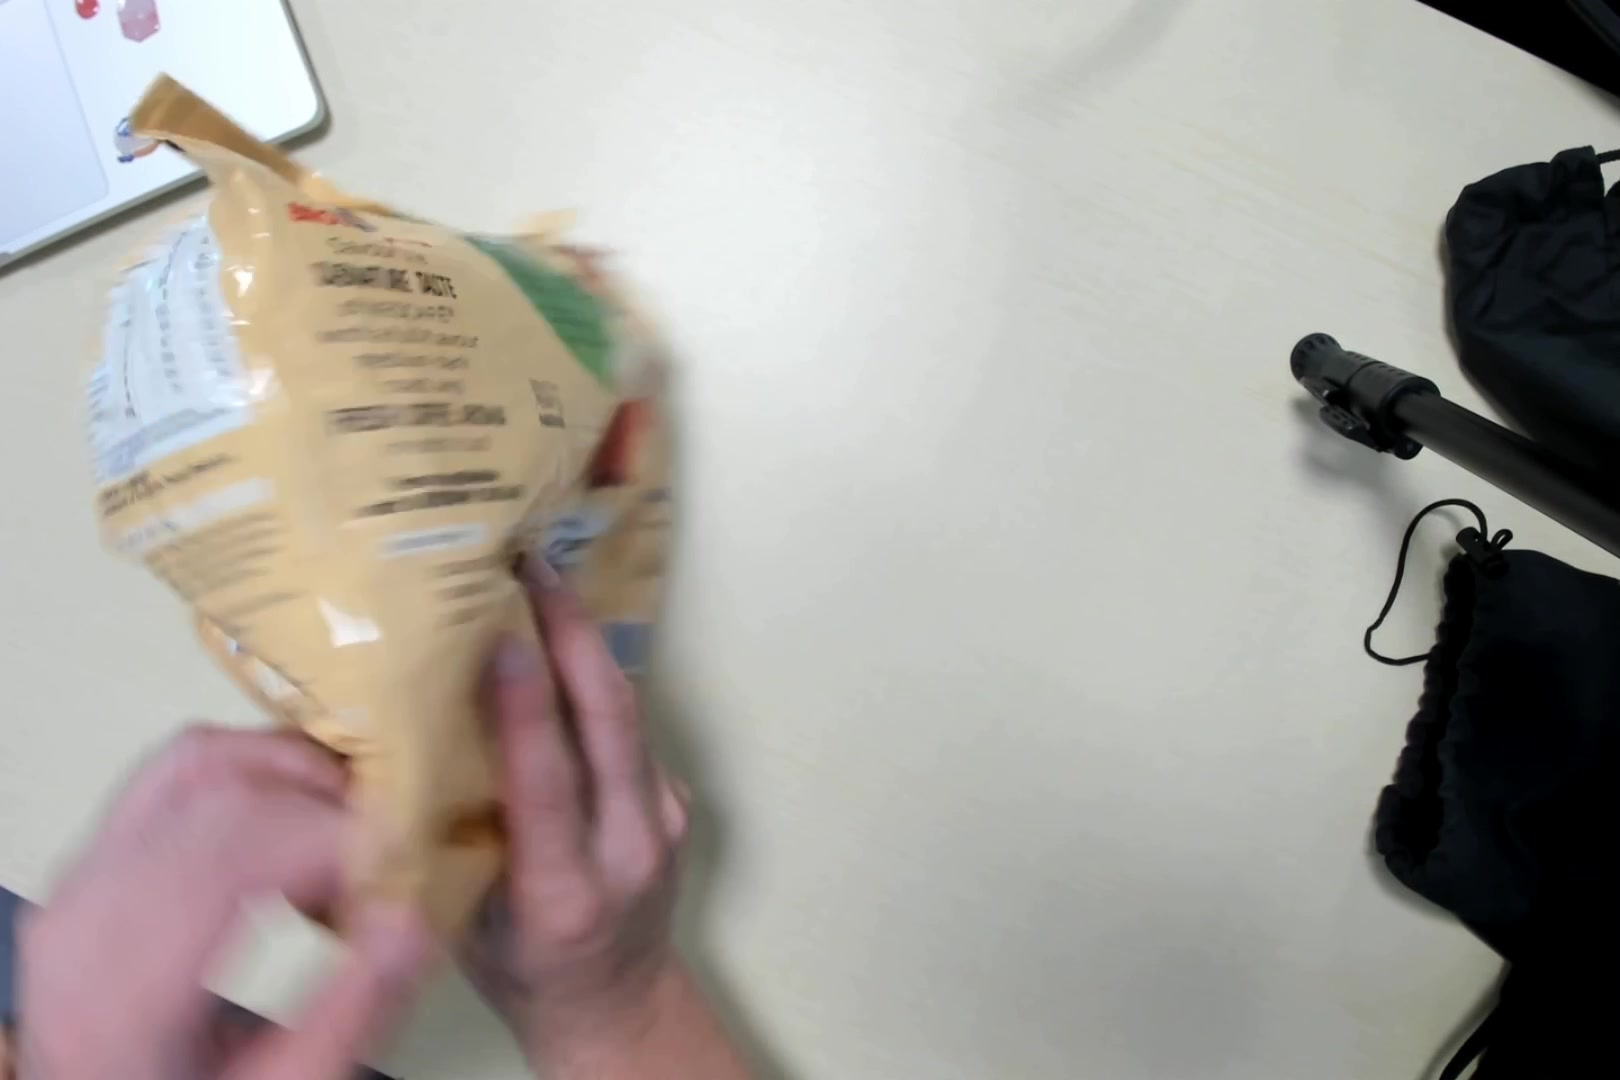Coffee(Powder)_500-599g_Halal_Healthy: (69, 106, 679, 952)
